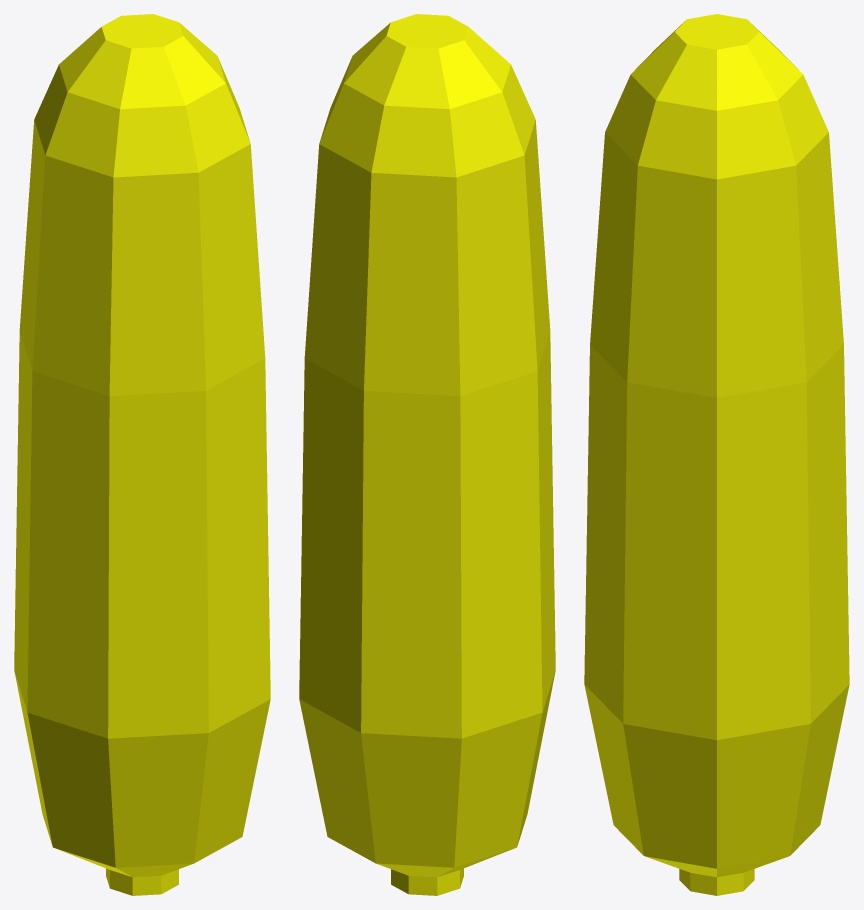
The model's file is corn03.obj.
The picture shows the model from 3 angles, left to right: view 1: azimuth 30°, elevation 25°; view 2: azimuth 150°, elevation 25°; view 3: azimuth 270°, elevation 25°; orthographic projection.
Visible parts, largest first — view 1: Cylinder; view 2: Cylinder; view 3: Cylinder.
Part boxes in pixels (box(x1,y1,x2,y2)): Cylinder: box(14, 14, 270, 895); Cylinder: box(299, 14, 555, 895); Cylinder: box(584, 14, 849, 895).
Size of the model in its own units: 0.0612 by 0.2157 by 0.0612.
Materials: 1 (1 with a texture image).
